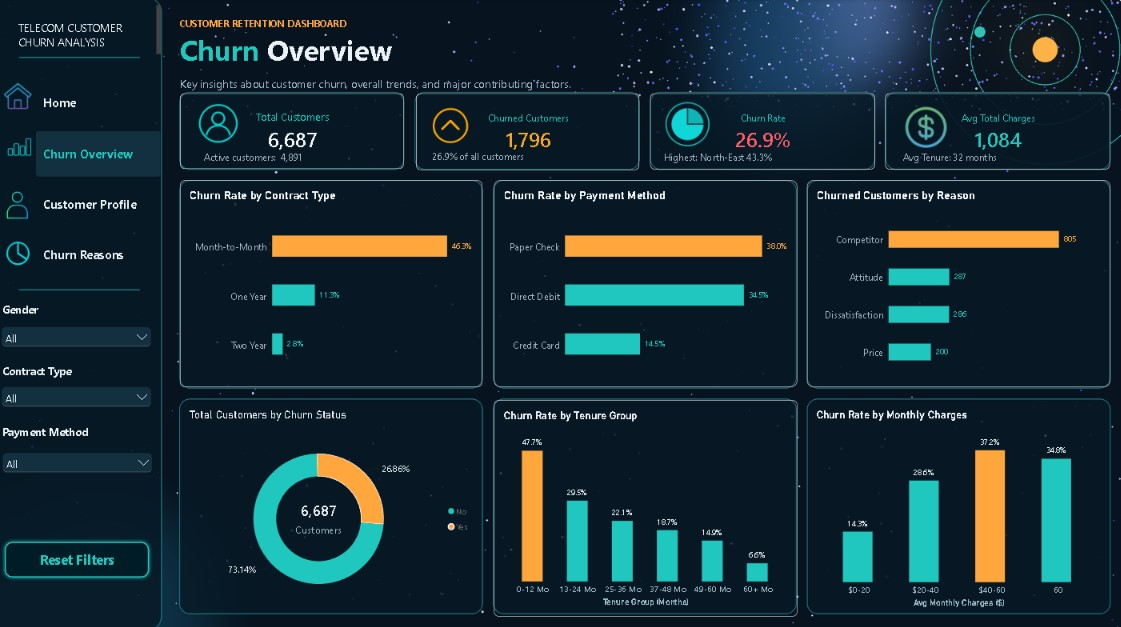

Layout of this report page (visuals, bound fields, positions):
{"tool":"powerbi","page":{"name":"Churn Overview","canvas":[1920,1080],"ordinal":1},"visuals":[{"type":"cardVisual","fields":{"Data":["Churn data.Churn Rate"]},"box":[1112.2,159.9,383,130],"z":0},{"type":"cardVisual","fields":{"Data":["Churn data.Total Customers Display"]},"box":[312.9,160,381.2,129.5],"z":0,"group":"g1"},{"type":"cardVisual","fields":{"Data":["Churn data.Churned Customers Display"]},"box":[714.1,159.9,380.9,132],"z":1000,"group":"g2"},{"type":"cardVisual","fields":{"Data":["Churn data.Avg Total Charges"]},"box":[1512.7,159.9,383,130],"z":1000},{"type":"group","id":"g1","title":"Group 2","box":[312.9,160,381.2,129.5],"z":2000},{"type":"group","id":"g2","title":"Group 1","box":[714.1,159.9,380.9,132],"z":3000},{"type":"image","box":[339.9,174.4,75.5,73.7],"z":4000,"group":"g1"},{"type":"image","box":[721.5,175,104.2,77.6],"z":4000,"group":"g2"},{"type":"textbox","box":[1135.9,256.5,215.6,31.6],"z":4000},{"type":"textbox","box":[741.7,255.8,187.6,32.1],"z":5000,"group":"g2"},{"type":"textbox","box":[1543,256.5,176.6,31.6],"z":5000},{"type":"textbox","box":[349.8,257.6,176.2,24.4],"z":5000,"group":"g1"},{"type":"image","box":[1135.9,171,79.9,81.8],"z":6000},{"type":"image","box":[1543,174.7,78.1,85.5],"z":7000},{"type":"clusteredBarChart","title":"Churn Rate by Contract Type","fields":{"Category":["Churn data.Contract Type"],"Y":["Churn data.Churn Rate"]},"box":[312.2,308.7,514.5,352.3],"z":8000},{"type":"clusteredBarChart","title":"Churn Rate by Payment Method","fields":{"Category":["Churn data.Payment Method"],"Y":["Churn data.Churn Rate"]},"box":[847.7,308.7,516.3,352.3],"z":9000},{"type":"clusteredBarChart","title":"Churned Customers by Reason","fields":{"Category":["Churn data.Churn Category"],"Y":["Churn data.Churned Customers for calc"]},"box":[1379.7,308.7,516,352.3],"z":10000},{"type":"donutChart","title":"Total Customers by Churn Status","fields":{"Category":["Churn data.Churn Label"],"Y":["CountNonNull(Churn data.Customer ID)"]},"box":[312.2,682,514.5,368],"z":11000},{"type":"clusteredColumnChart","fields":{"Category":["Churn data.Tenure Group"],"Y":["Churn data.Churn Rate"]},"box":[847.7,682,516.3,368],"z":12000},{"type":"clusteredColumnChart","title":"Churn Rate by Monthly Charges","fields":{"Category":["Churn data.Monthly Charges Range"],"Y":["Churn data.Churn Rate"]},"box":[1379.7,682,516.3,368],"z":13000},{"type":"textbox","box":[312.2,29.7,446.5,22.7],"z":14000},{"type":"textbox","box":[312.2,52.3,552.9,66.3],"z":15000},{"type":"textbox","box":[312.2,130.8,1105.8,29.7],"z":16000},{"type":"textbox","box":[0,10.5,280.8,89],"z":17000},{"type":"shape","box":[38.4,85.5,205.8,27.9],"z":18000},{"type":"image","box":[0,141.6,75,47.1],"z":19000},{"type":"image","box":[0,216.6,80.2,69.8],"z":20000},{"type":"image","box":[5.2,323,62.8,54.1],"z":21000},{"type":"image","box":[3.5,410.2,68,43.6],"z":22000},{"type":"shape","box":[38.4,484.9,205.8,19.2],"z":23000},{"type":"pageNavigator","box":[68,137.8,212.8,338.4],"z":24000},{"type":"slicer","fields":{"Values":["Churn data.Gender"]},"box":[5.2,552.9,263.4,85.5],"z":25000},{"type":"textbox","box":[10.5,516.3,263.4,36.6],"z":27000},{"type":"slicer","fields":{"Values":["Churn data.Contract Type"]},"box":[5.2,655.8,263.4,85.5],"z":28000},{"type":"textbox","box":[10.5,619.2,263.4,36.6],"z":29000},{"type":"slicer","fields":{"Values":["Churn data.Payment Method"]},"box":[6.9,767.7,263.4,85.5],"z":30000},{"type":"textbox","box":[10.5,723.8,263.4,36.6],"z":31000},{"type":"actionButton","box":[8.7,917.4,258.1,73.3],"z":32000}]}

Visuals, with their boxes on the page's 1920x1080 design canvas (x1, y1, x2, y2). These are canvas units, not pixel positions in the 1121x627 screenshot, which may show the page scaled, cropped or inside an application window:
cardVisual - Churn data.Churn Rate: (x1=1112, y1=160, x2=1495, y2=290)
cardVisual - Churn data.Total Customers Display: (x1=313, y1=160, x2=694, y2=290)
cardVisual - Churn data.Churned Customers Display: (x1=714, y1=160, x2=1095, y2=292)
cardVisual - Churn data.Avg Total Charges: (x1=1513, y1=160, x2=1896, y2=290)
"Group 2" group: (x1=313, y1=160, x2=694, y2=290)
"Group 1" group: (x1=714, y1=160, x2=1095, y2=292)
image: (x1=340, y1=174, x2=415, y2=248)
image: (x1=722, y1=175, x2=826, y2=253)
textbox: (x1=1136, y1=256, x2=1352, y2=288)
textbox: (x1=742, y1=256, x2=929, y2=288)
textbox: (x1=1543, y1=256, x2=1720, y2=288)
textbox: (x1=350, y1=258, x2=526, y2=282)
image: (x1=1136, y1=171, x2=1216, y2=253)
image: (x1=1543, y1=175, x2=1621, y2=260)
"Churn Rate by Contract Type" clusteredBarChart: (x1=312, y1=309, x2=827, y2=661)
"Churn Rate by Payment Method" clusteredBarChart: (x1=848, y1=309, x2=1364, y2=661)
"Churned Customers by Reason" clusteredBarChart: (x1=1380, y1=309, x2=1896, y2=661)
"Total Customers by Churn Status" donutChart: (x1=312, y1=682, x2=827, y2=1050)
clusteredColumnChart - Churn data.Tenure Group x Churn data.Churn Rate: (x1=848, y1=682, x2=1364, y2=1050)
"Churn Rate by Monthly Charges" clusteredColumnChart: (x1=1380, y1=682, x2=1896, y2=1050)
textbox: (x1=312, y1=30, x2=759, y2=52)
textbox: (x1=312, y1=52, x2=865, y2=119)
textbox: (x1=312, y1=131, x2=1418, y2=160)
textbox: (x1=0, y1=10, x2=281, y2=100)
shape: (x1=38, y1=86, x2=244, y2=113)
image: (x1=0, y1=142, x2=75, y2=189)
image: (x1=0, y1=217, x2=80, y2=286)
image: (x1=5, y1=323, x2=68, y2=377)
image: (x1=4, y1=410, x2=72, y2=454)
shape: (x1=38, y1=485, x2=244, y2=504)
pageNavigator: (x1=68, y1=138, x2=281, y2=476)
slicer - Churn data.Gender: (x1=5, y1=553, x2=269, y2=638)
textbox: (x1=10, y1=516, x2=274, y2=553)
slicer - Churn data.Contract Type: (x1=5, y1=656, x2=269, y2=741)
textbox: (x1=10, y1=619, x2=274, y2=656)
slicer - Churn data.Payment Method: (x1=7, y1=768, x2=270, y2=853)
textbox: (x1=10, y1=724, x2=274, y2=760)
actionButton: (x1=9, y1=917, x2=267, y2=991)
